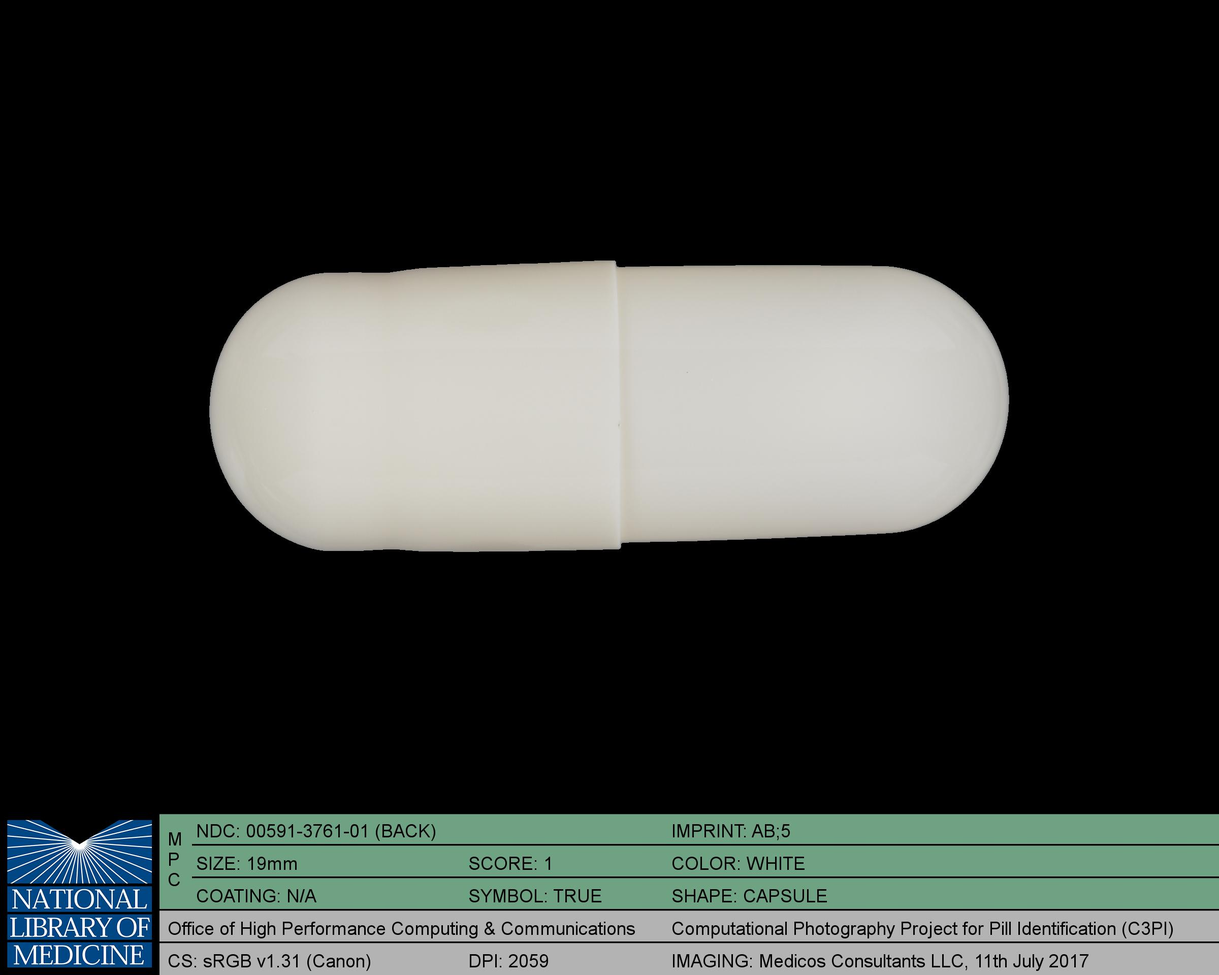Pill: (195, 245, 1023, 565)
